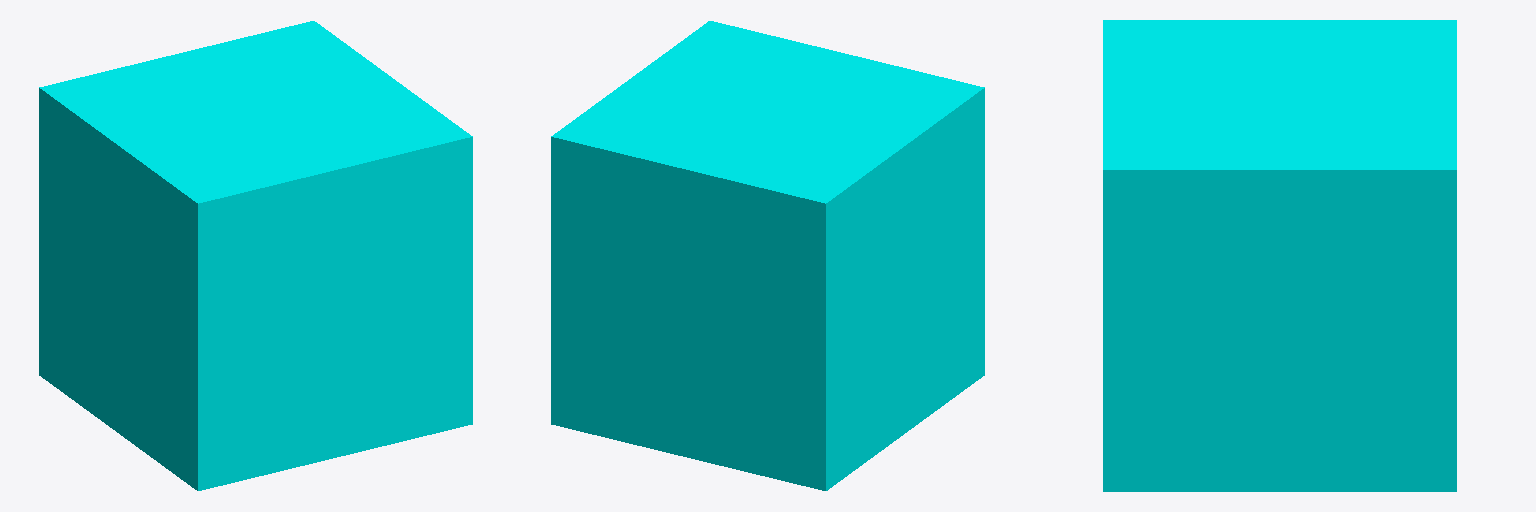
robot.urdf — test_robot:
<robot name="test_robot">
  <link name="link1" />

  <link name="link2">
   <inertial>
     <origin xyz="0 0 0.5" rpy="0 0 0"/>
     <mass value="1"/>
     <inertia ixx="100"  ixy="0"  ixz="0" iyy="100" iyz="0" izz="100" />
   </inertial>

   <visual>
     <origin xyz="0 0 0" rpy="0 0 0" />
     <geometry>
       <box size="1 1 1" />
     </geometry>
     <material name="Cyan">
       <color rgba="0 1.0 1.0 1.0"/>
     </material>
   </visual>

   <collision>
     <origin xyz="0 0 0" rpy="0 0 0"/>
     <geometry>
       <cylinder radius="1" length="0.5"/>
     </geometry>
   </collision>
 </link>

 <link name="link3" />

 <joint name="joint1" type="floating">
   <origin xyz="0 0 1" rpy="0 0 3.1416"/>
   <parent link="link1"/>
   <child link="link2"/>

   <calibration rising="0.0"/>
   <dynamics damping="0.0" friction="0.0"/>
   <limit effort="30" velocity="1.0" lower="-2.2" upper="0.7" />
   <safety_controller k_velocity="10" k_position="15" soft_lower_limit="-2.0" soft_upper_limit="0.5" />
 </joint>

  <joint name="joint2" type="revolute">
   <origin xyz="0 1 0" rpy="0 0 2"/>
   <parent link="link2"/>
   <child link="link3"/>

   <calibration rising="0.0"/>
   <dynamics damping="0.0" friction="0.0"/>
   <limit effort="10" velocity="2.0" lower="-3.2" upper="2.5" />
   <safety_controller k_velocity="10" k_position="15" soft_lower_limit="-2.0" soft_upper_limit="0.5" />
 </joint>
</robot>

--- What the picture shows (computed from the rendered views, not written in the file) ---
Views: 3 orthographic renders of the robot side by side, from view 1: azimuth 30°, elevation 25°; view 2: azimuth 150°, elevation 25°; view 3: azimuth 270°, elevation 25°.
Robot: test_robot — 3 links, 2 joints (1 revolute, 1 floating); root link link1; default pose: all joints at 0.
Visible links, largest first — view 1: link2; view 2: link2; view 3: link2.
Link boxes in pixels (box(x1,y1,x2,y2)): link2: box(39, 21, 472, 490); link2: box(551, 21, 984, 490); link2: box(1103, 20, 1456, 491).
Bounding box of the posed robot: 1 × 1 × 1 m (x, y, z).
Geometry: primitives only (box / cylinder / sphere), no mesh files.